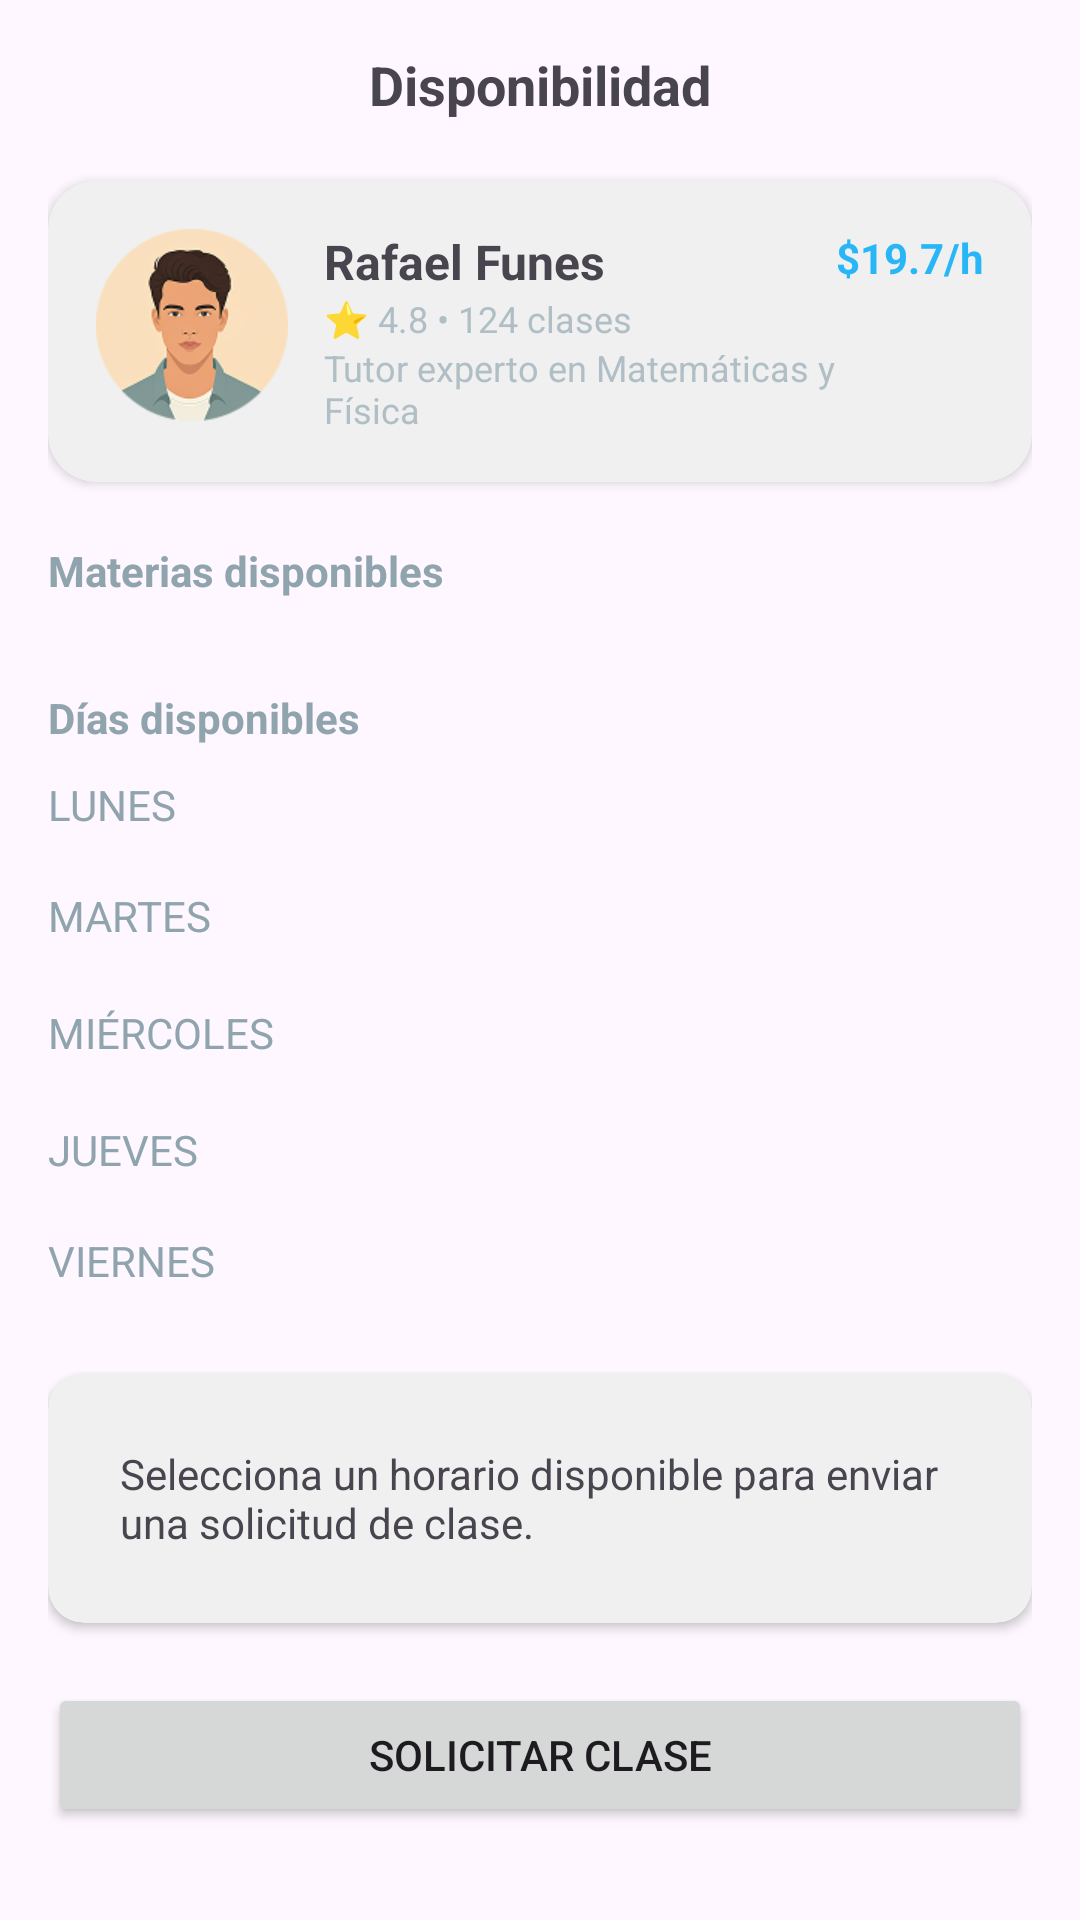

Named icons in this screenshot (1080*1920) and their bounding boxes, (x1, y1, x2, y2):
profile photo: (96, 229, 288, 421)
